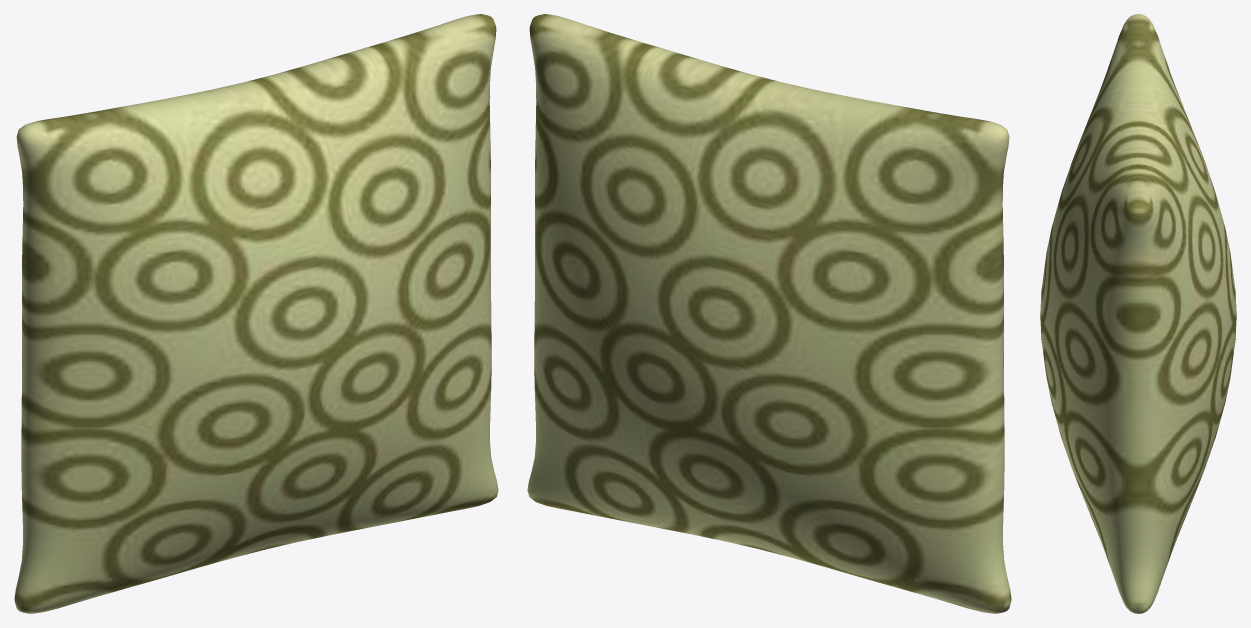
File: kissen.obj
3 renders of one model, left to right at view 1: azimuth 30°, elevation 25°; view 2: azimuth 150°, elevation 25°; view 3: azimuth 270°, elevation 25°, orthographic. The views are drawn at different scales.
Visible parts, largest first — view 1: throwPillow:PolyMesh_1; view 2: throwPillow:PolyMesh_1; view 3: throwPillow:PolyMesh_1.
Part boxes in pixels (x1,y1,x2,y2): throwPillow:PolyMesh_1: [14, 14, 498, 613]; throwPillow:PolyMesh_1: [527, 14, 1011, 613]; throwPillow:PolyMesh_1: [1040, 14, 1236, 613].
Bounding box in the file's own units: 1.06 × 1.03 × 0.447.
